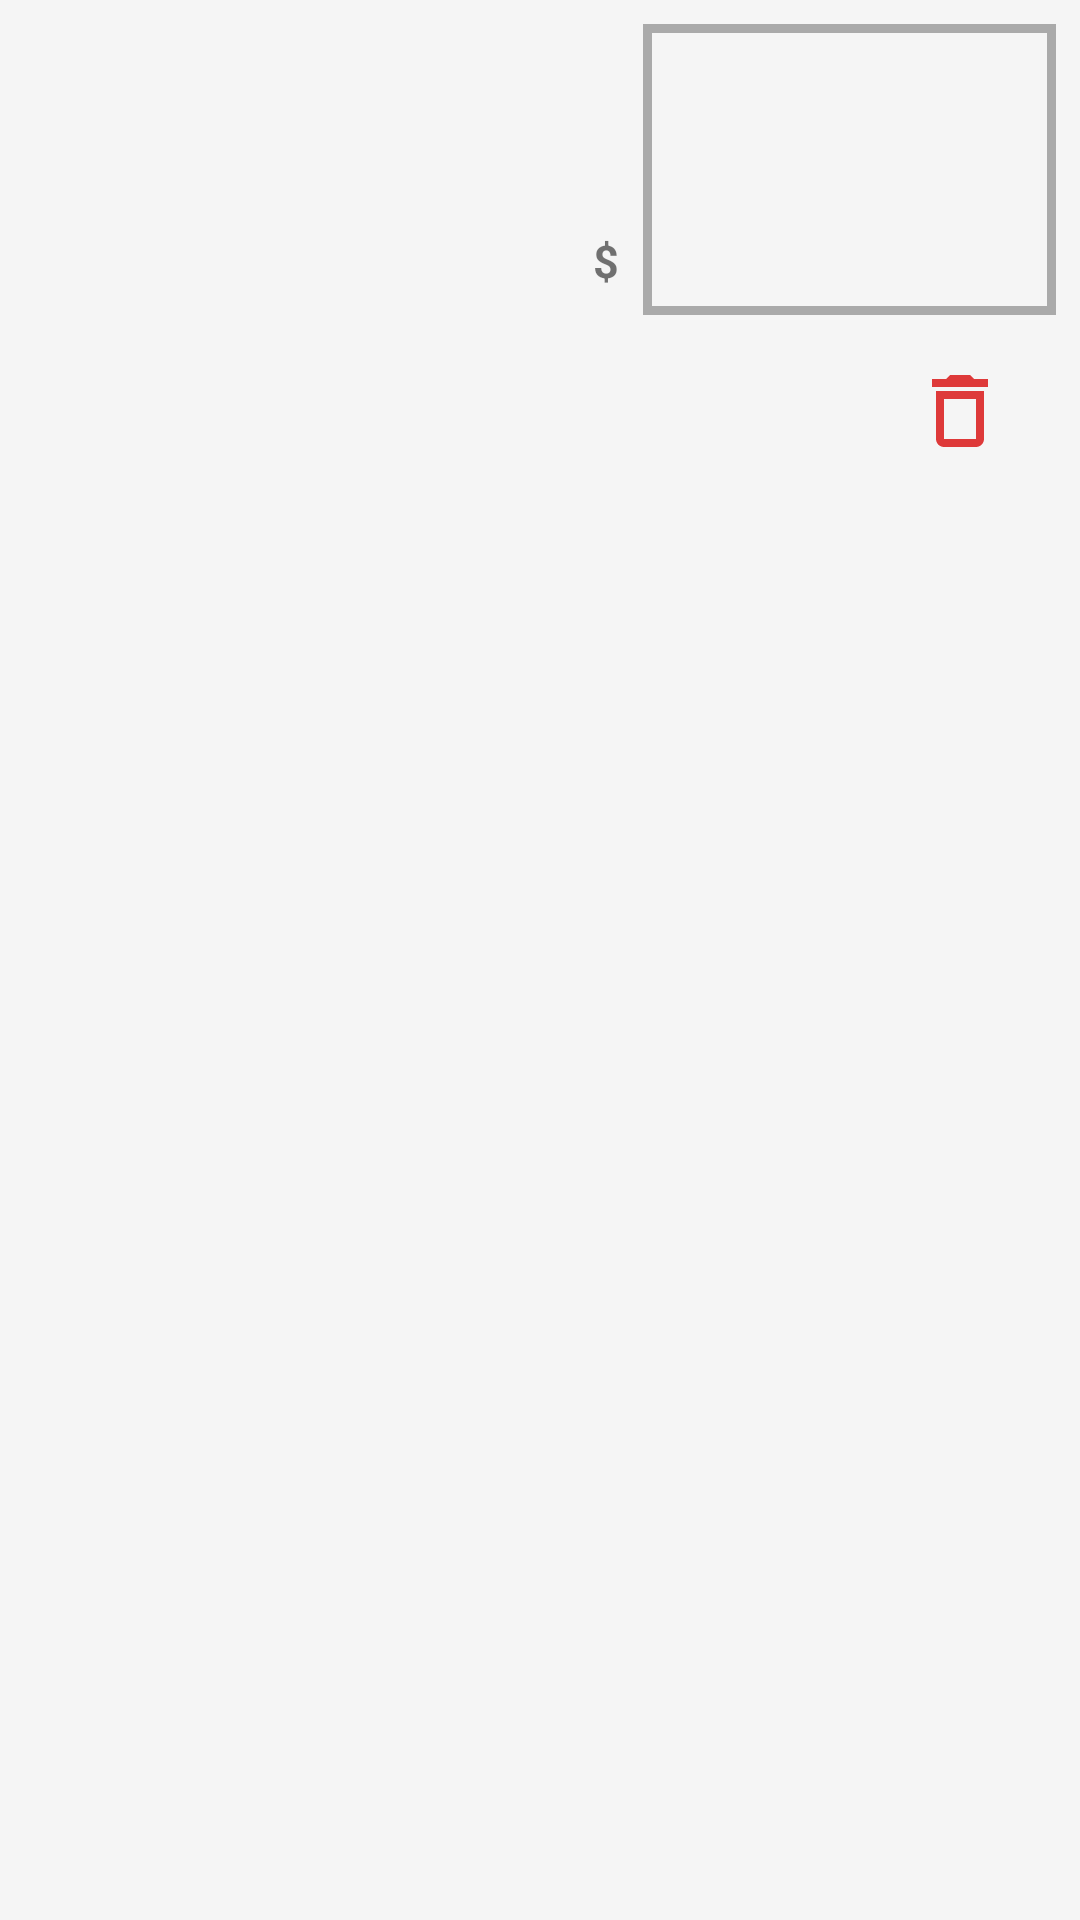

Screen size 1080x1920. Icon name, then its box in pixels as [left=x1, top=y1, right=x2, bottom=y2]:
Delete the item from cart list: [left=932, top=375, right=988, bottom=447]
